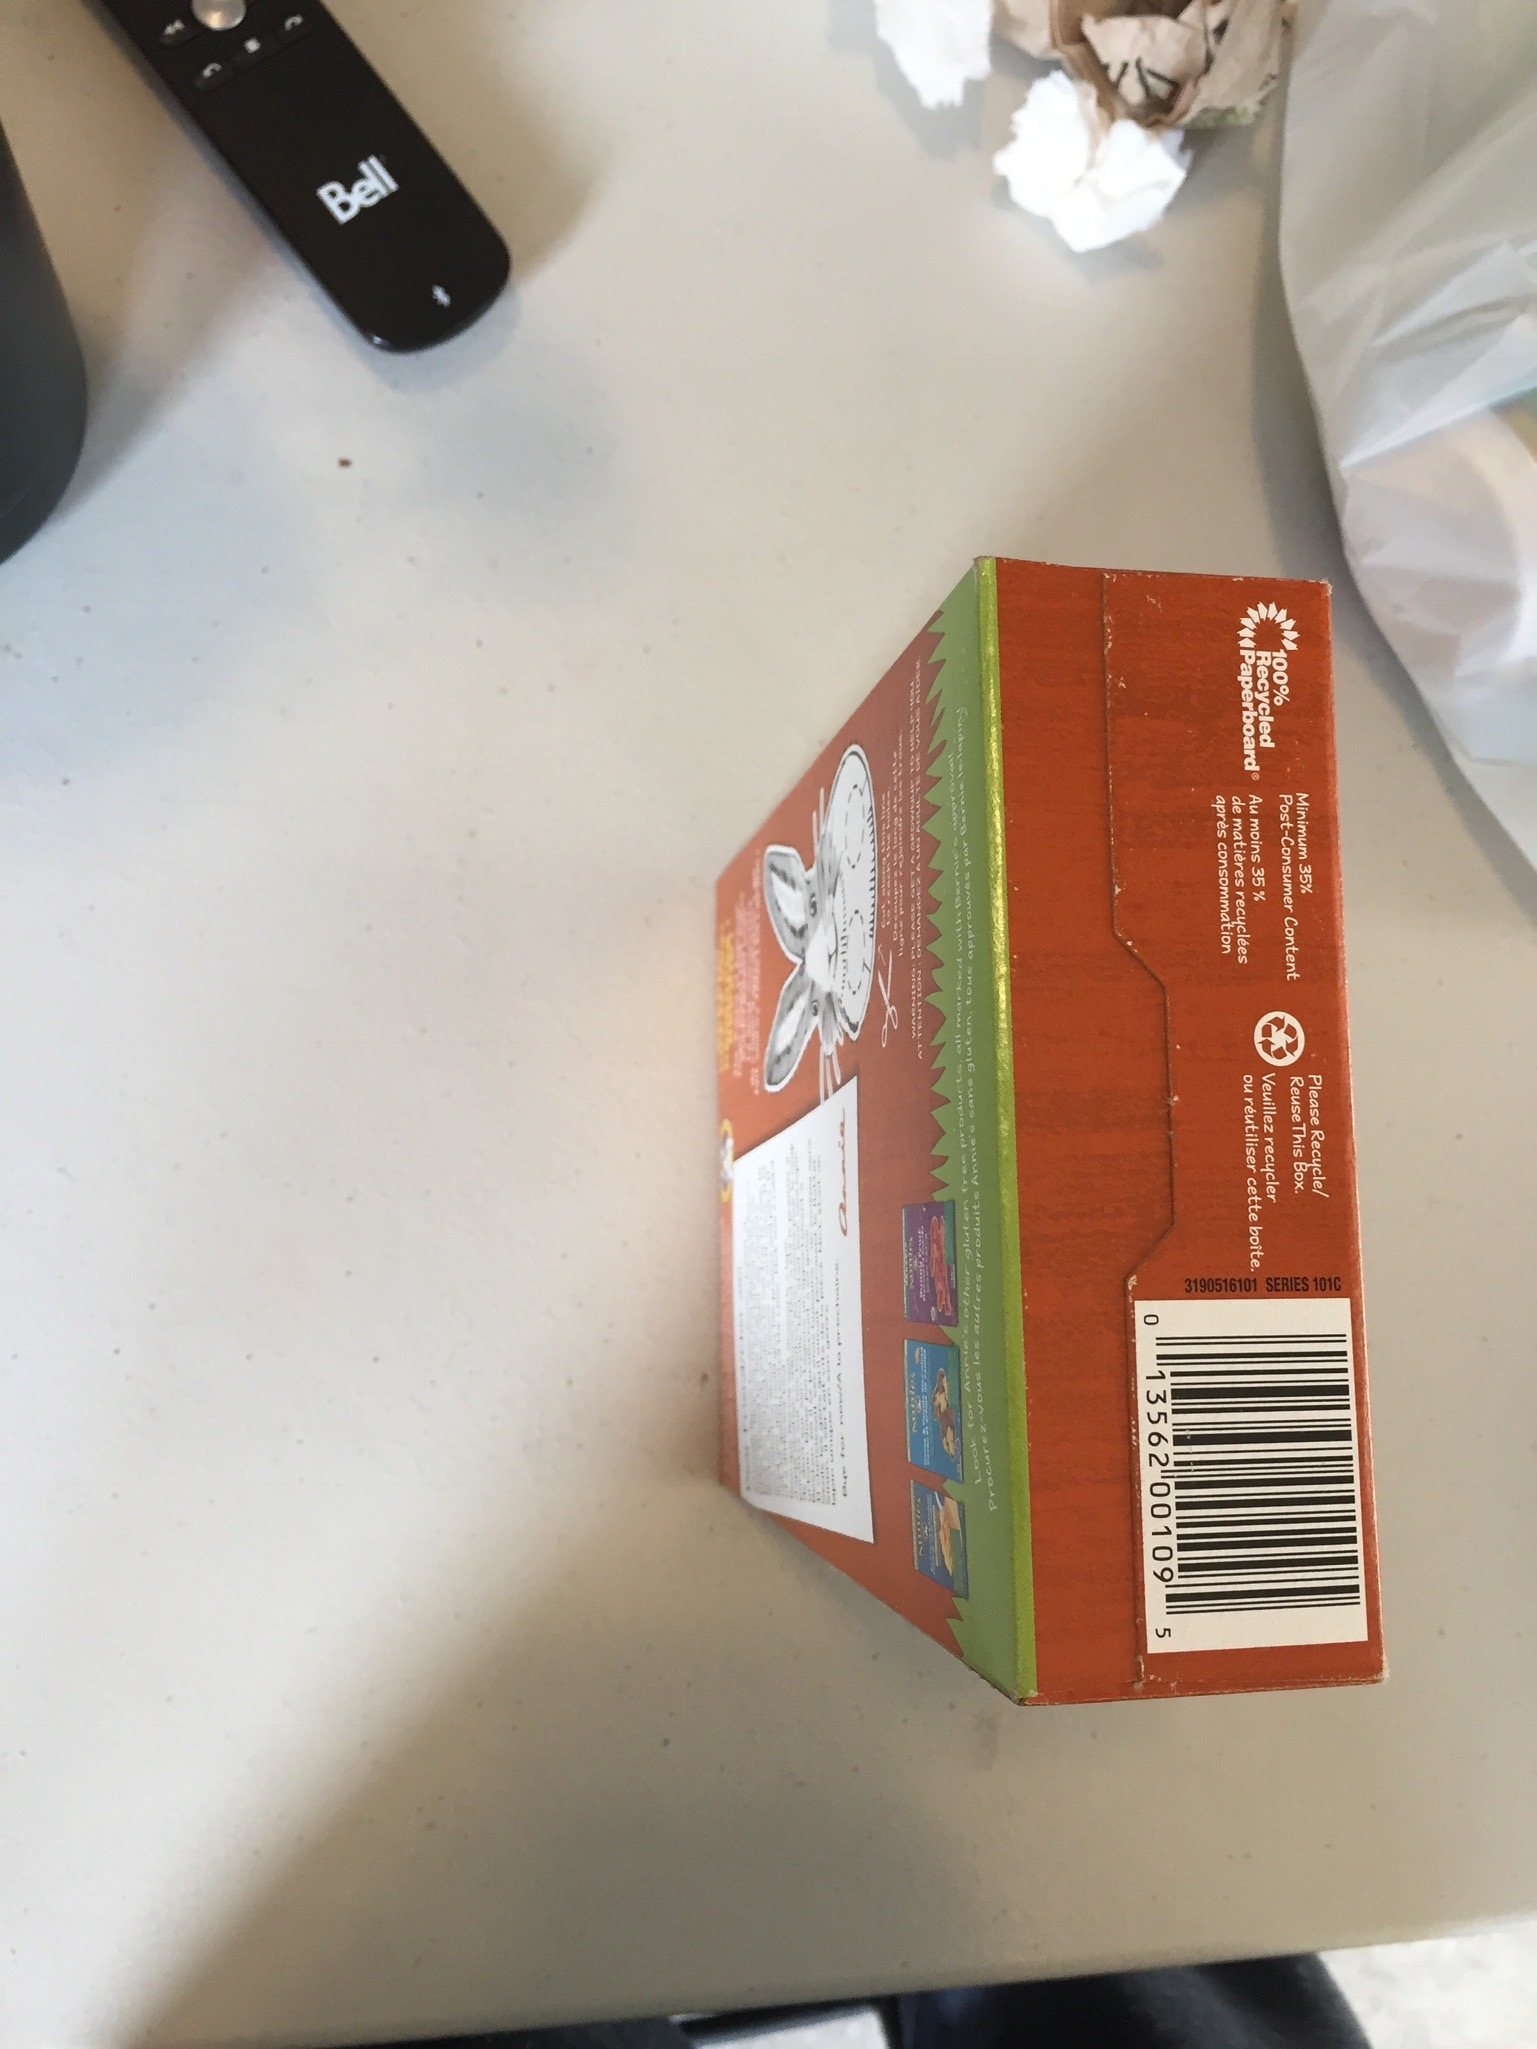annies_snickerdoodles_cinnamon_sugar: (928, 654, 1355, 1676)
